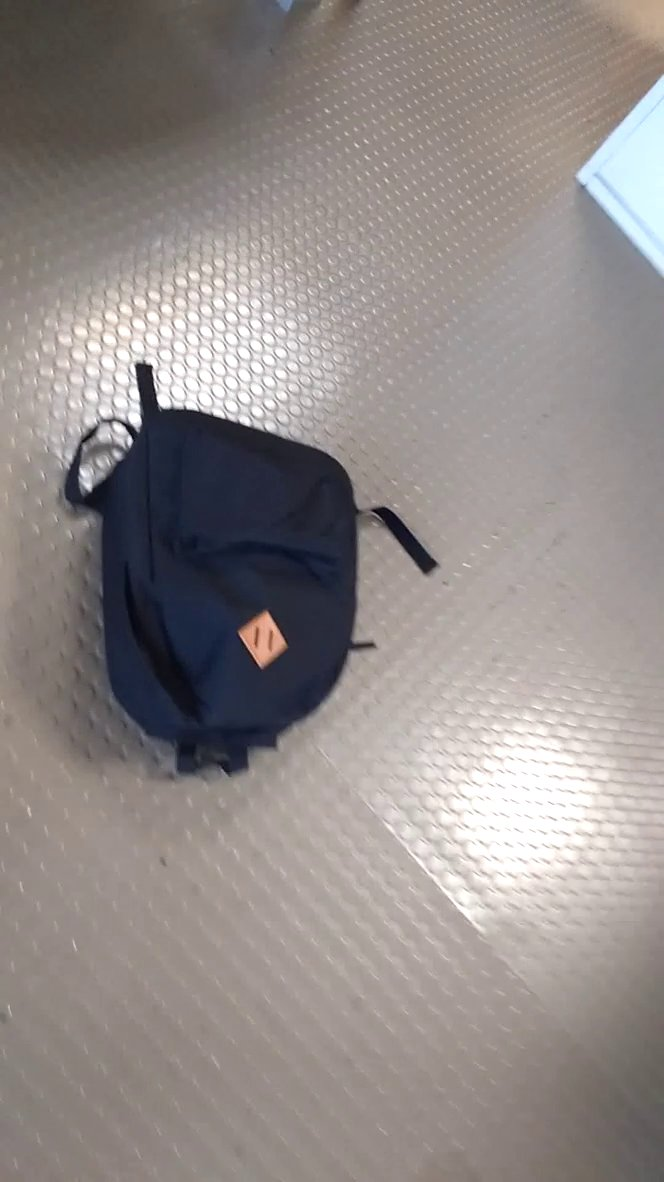bag: (58, 350, 452, 789)
